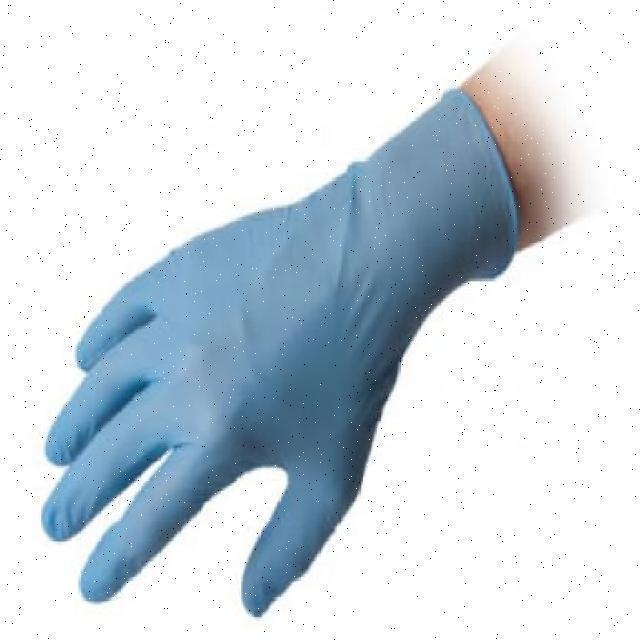Guantes: (40, 85, 521, 617)
